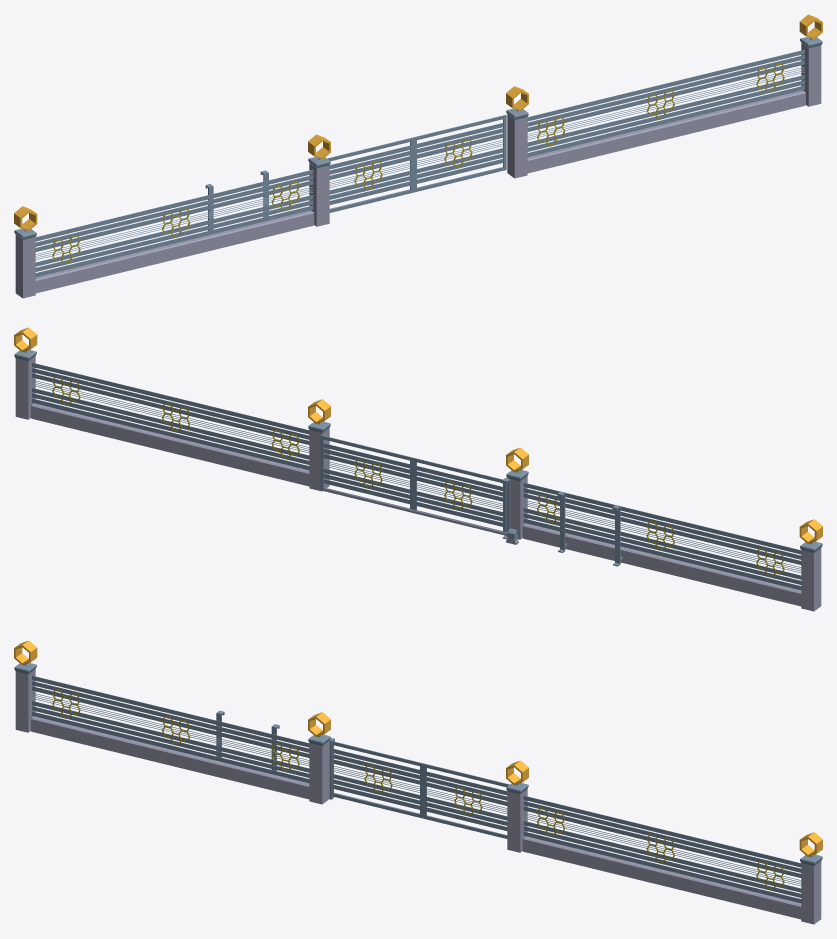
File: FENCES_GATES.fbx
The picture shows the model from 3 angles, top to bottom: view 1: azimuth 30°, elevation 25°; view 2: azimuth 150°, elevation 25°; view 3: azimuth 330°, elevation 25°; orthographic projection.
Visible parts, largest first — view 1: FENCES_GATES, GATES; view 2: FENCES_GATES, GATES; view 3: FENCES_GATES, GATES.
Part boxes in pixels (<box>): FENCES_GATES: <box>14,14,822,298</box>; GATES: <box>327,115,506,212</box>; FENCES_GATES: <box>14,327,822,611</box>; GATES: <box>320,435,518,538</box>; FENCES_GATES: <box>14,640,822,924</box>; GATES: <box>332,741,509,838</box>.
Bounding box in the file's own units: 1472 × 152 × 40.87.
